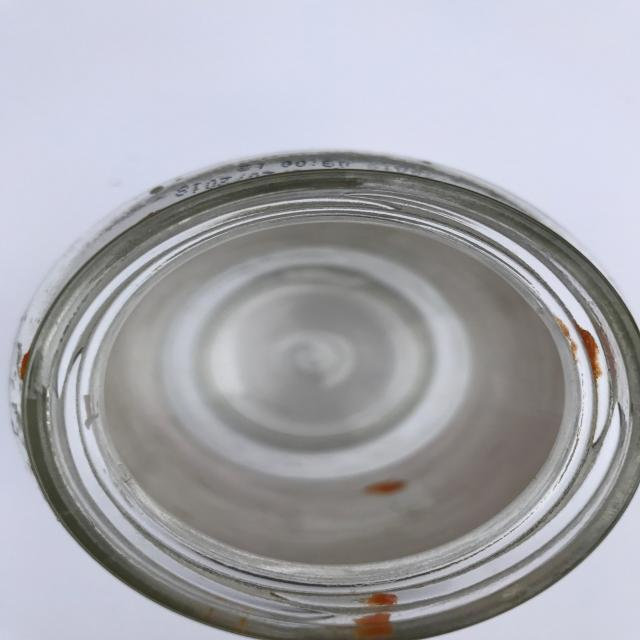glass: (9, 149, 640, 640)
